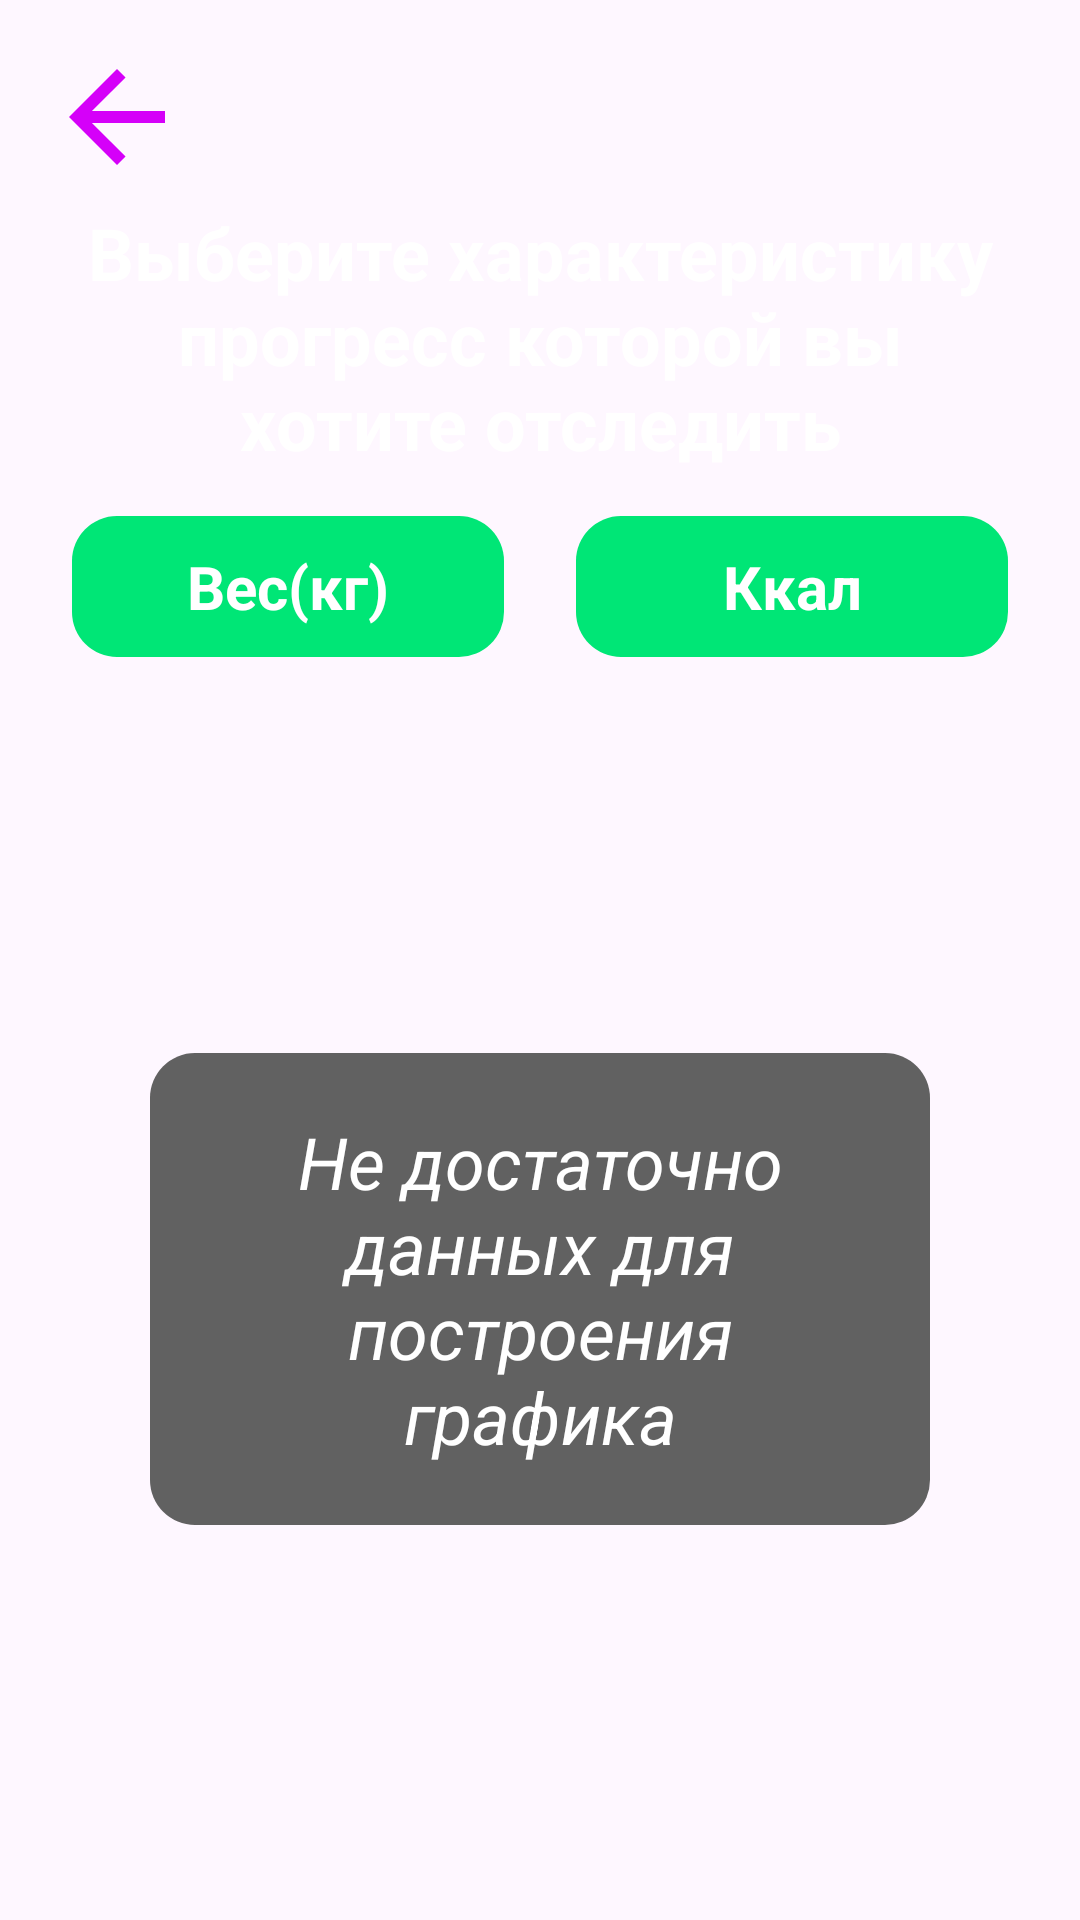

Named icons in this screenshot (1080 x 1920) and their centers, (x=x, y=y):
arrow back: (x=117, y=117)
